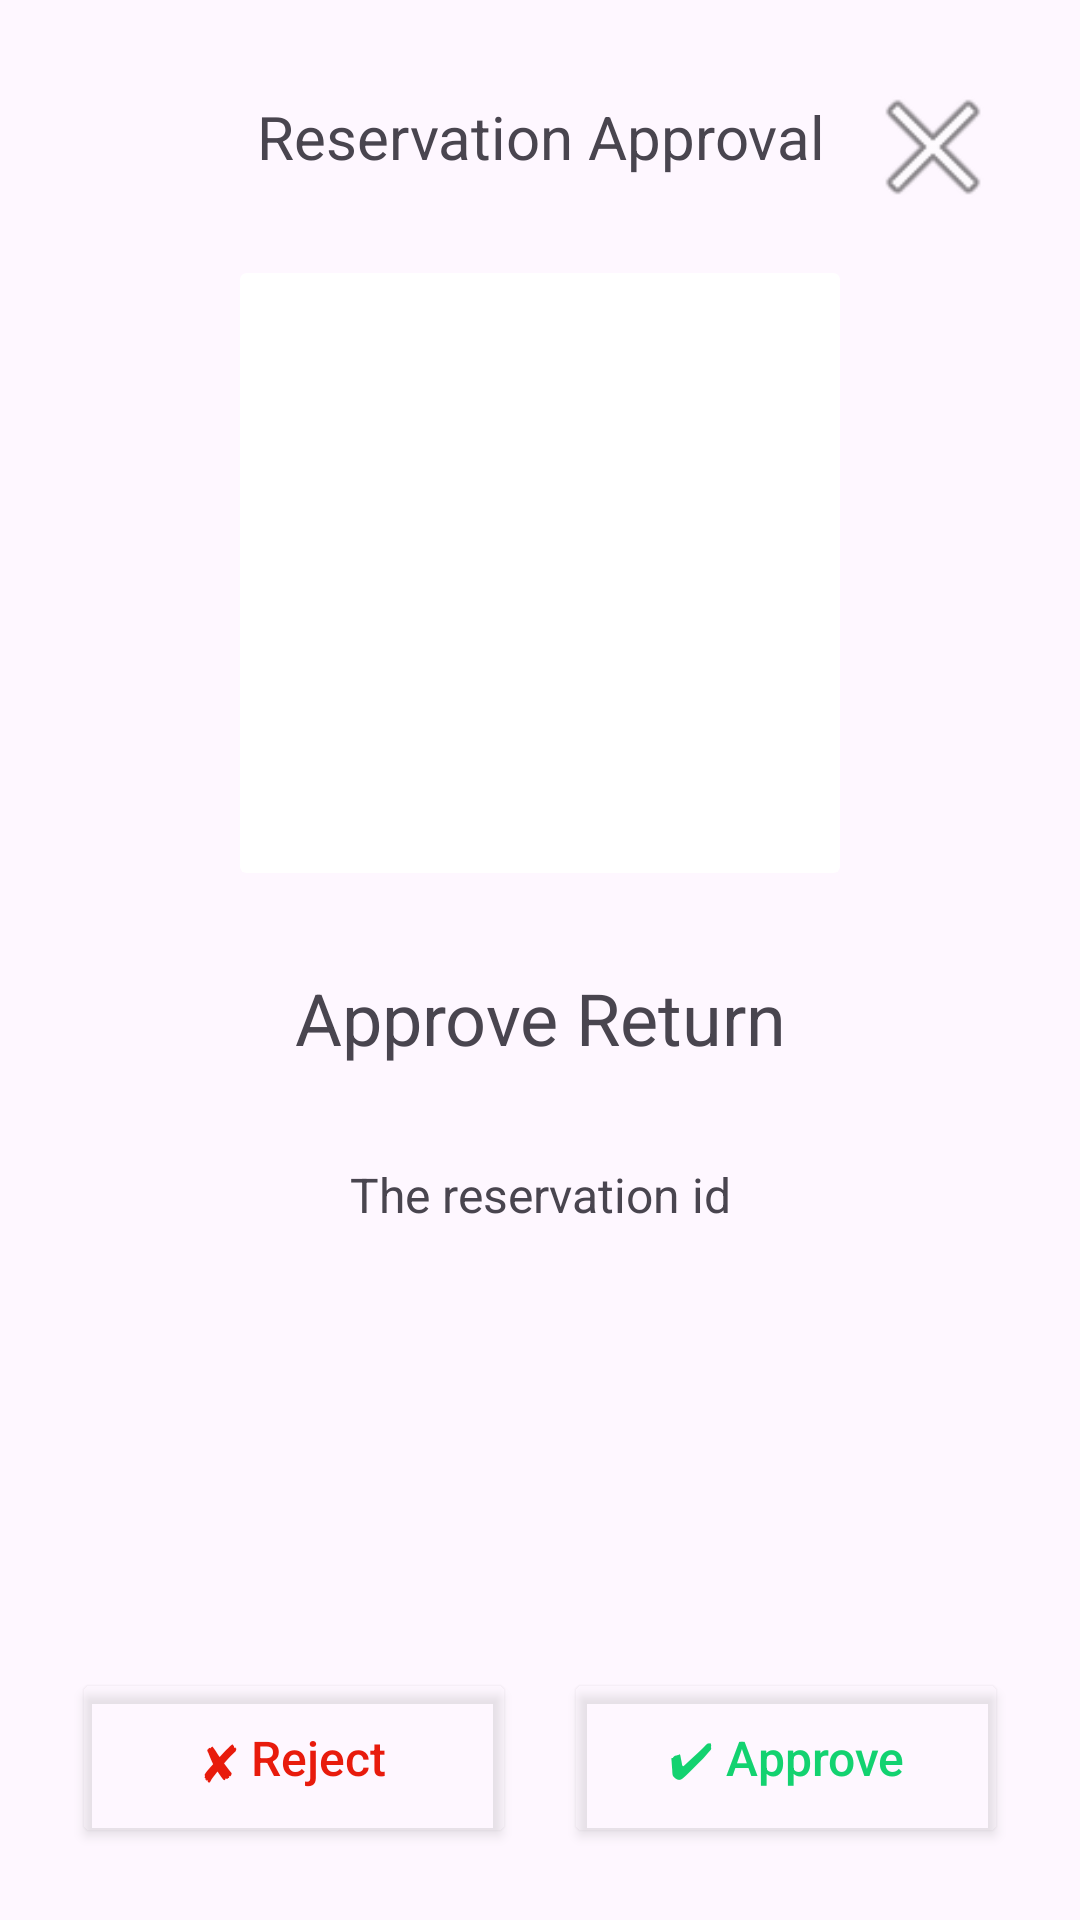

Where to tap for icons on this 1080w x 1920h app screen, as [x,y]:
close clear cancel: [933,147]
